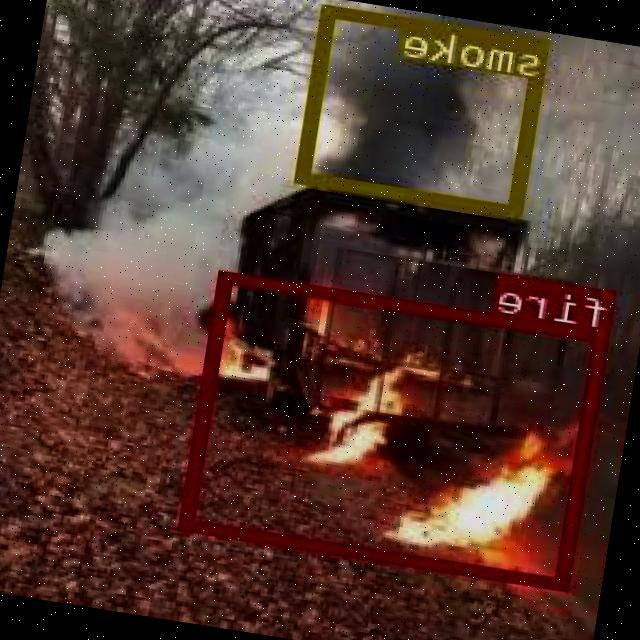fire: (182, 270, 613, 588)
smoke: (298, 4, 552, 218)
